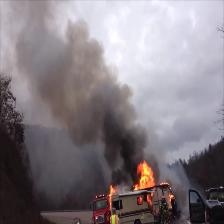fire: (132, 161, 158, 190), (109, 188, 119, 224)
smoke: (5, 5, 148, 182)
